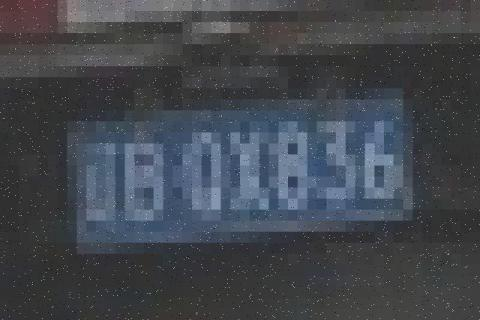LicensePlate: (58, 83, 438, 269)
